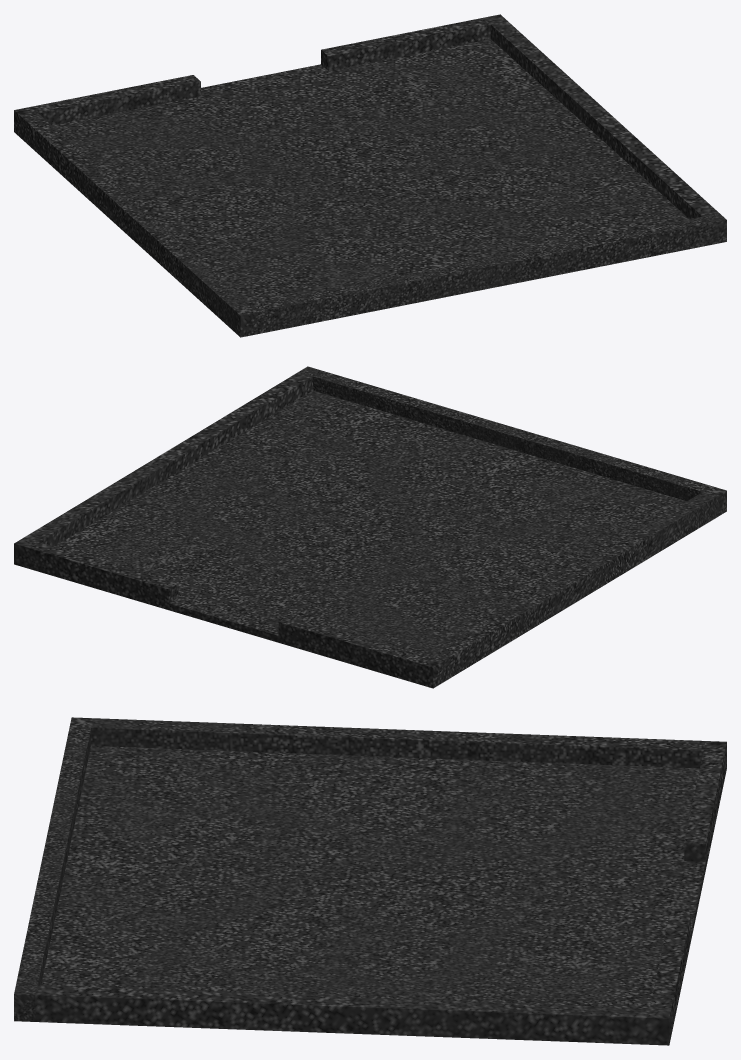
Rendered from parkinglot.FBX.
3 views of the same model, one above another, from view 1: azimuth 30°, elevation 25°; view 2: azimuth 150°, elevation 25°; view 3: azimuth 270°, elevation 25° (orthographic). The views are drawn at different scales.
Visible parts, largest first — view 1: Box003; view 2: Box003; view 3: Box003.
Boxes of the visible parts, x1,y1,x2,y2 form: Box003: [14, 14, 726, 337]; Box003: [14, 366, 726, 688]; Box003: [14, 717, 726, 1045].
Bounding box in the file's own units: 217 × 9 × 217.
